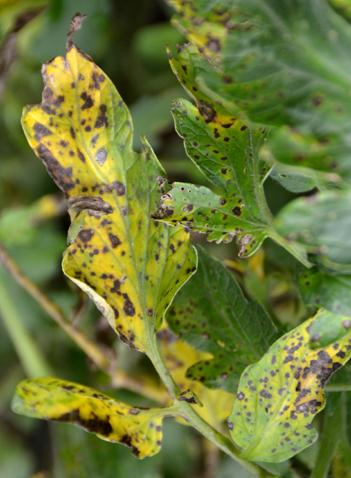Tomato Early blight leaf: (26, 52, 177, 357), (221, 313, 351, 466), (8, 380, 172, 455)
